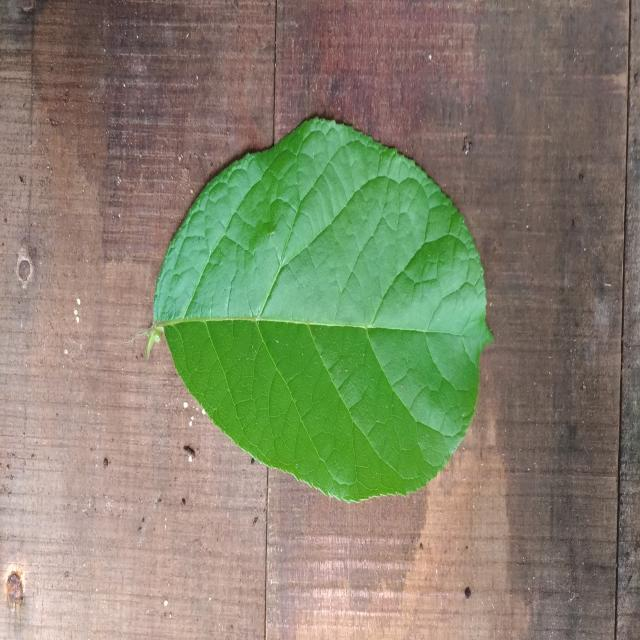padri: (148, 118, 492, 500)
